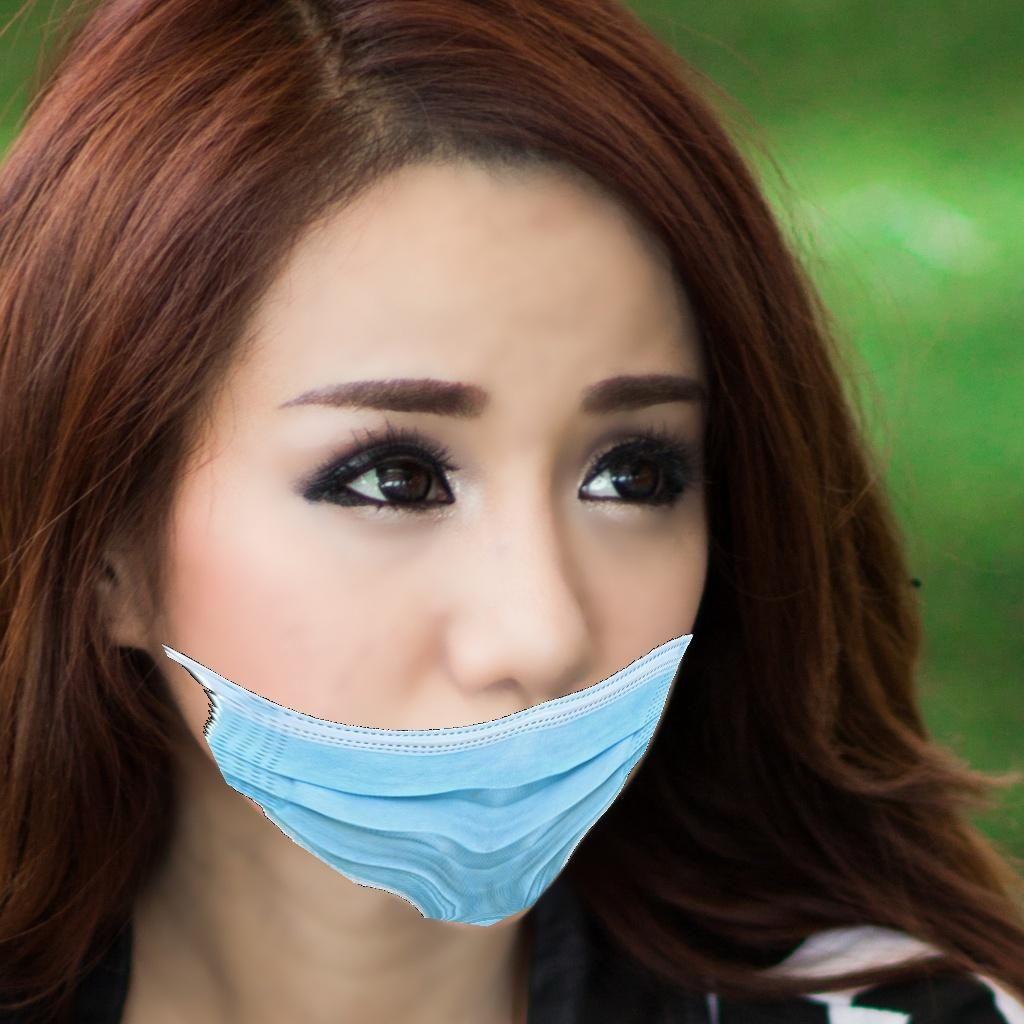Máscara Incorreta: (218, 259, 696, 926)
